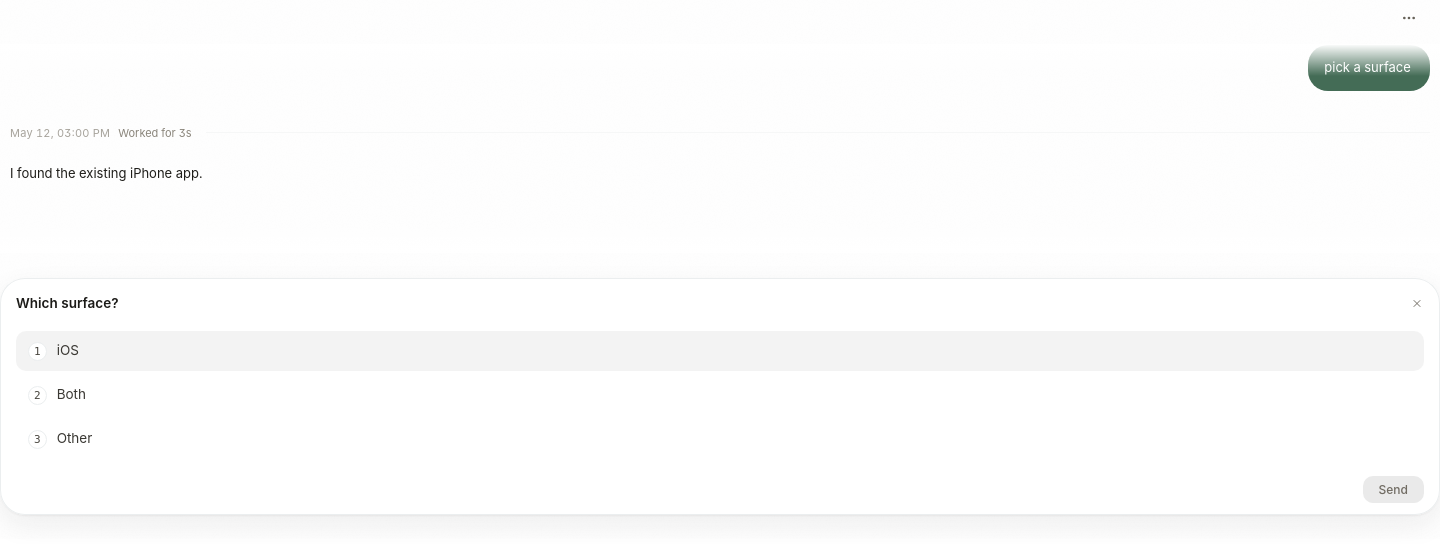
SessionConversation — cards › shows one completed async Codex question and submits its answer
Expected: the number of elements named "Question from agent" is 1, [0,278,1439,515]
Expected: the text "I found the existing iPhone app." is shown, [10,165,202,181]
Click the option "1 iOS". click: [37, 352]
box: [16,331,1424,371]
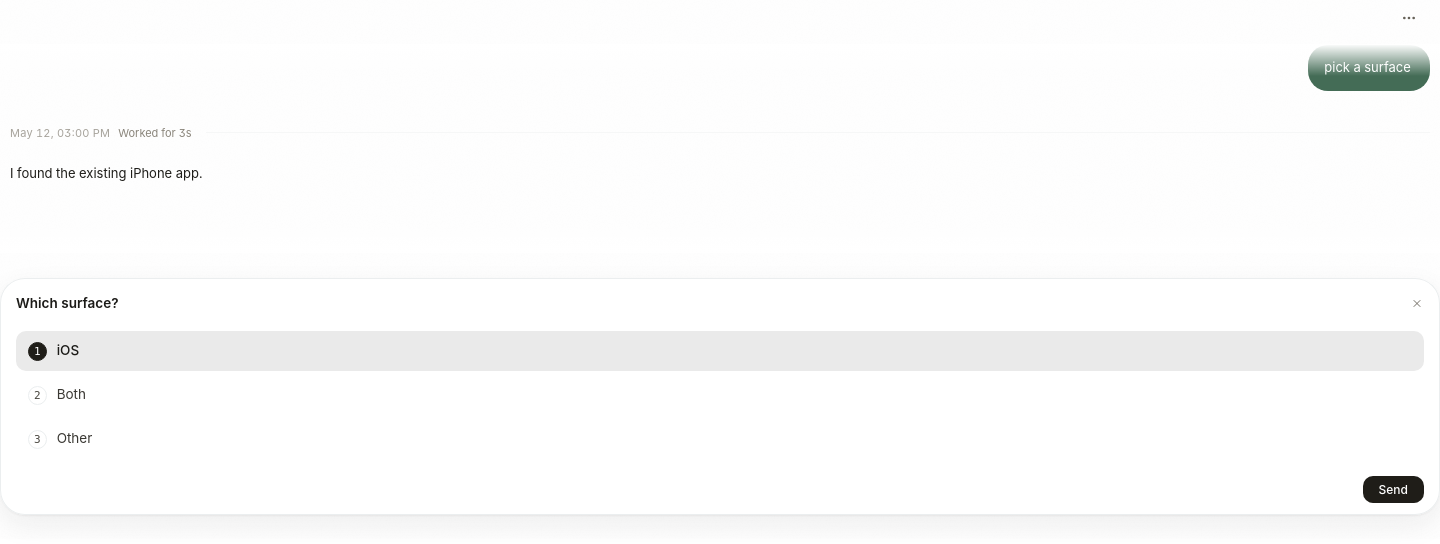
Click the button with aria-label "Submit answer". click: [1393, 489]
box: [1363,476,1424,503]
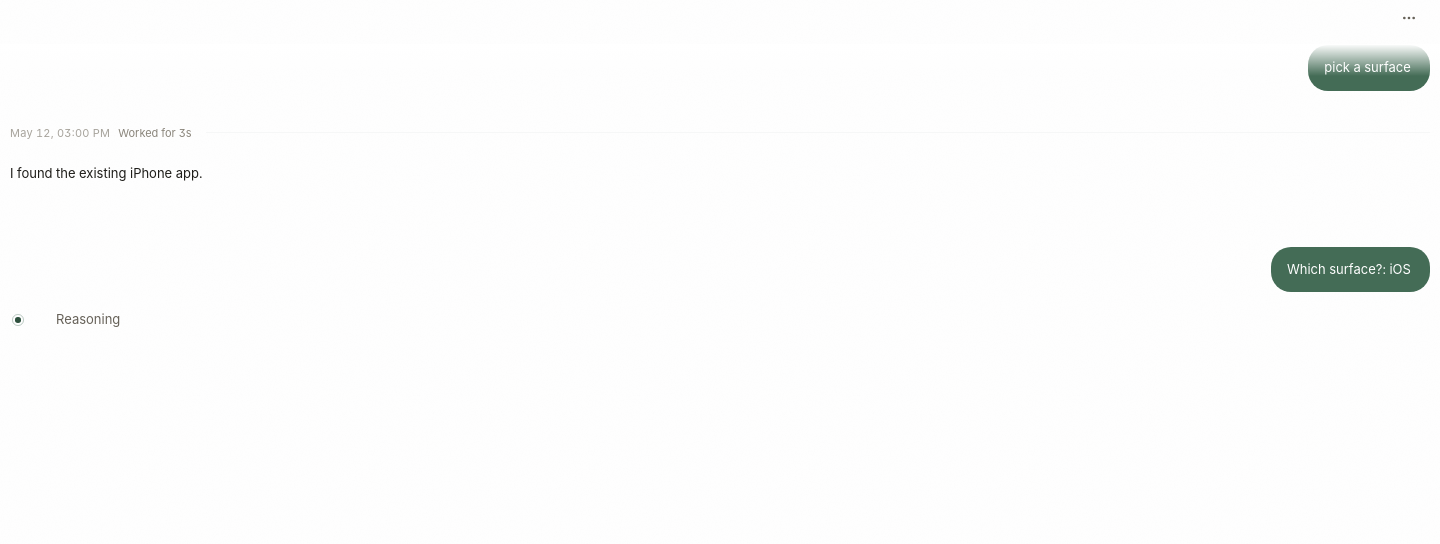
Expected: the text "Which surface?: iOS" is shown, [1287,259,1411,280]
